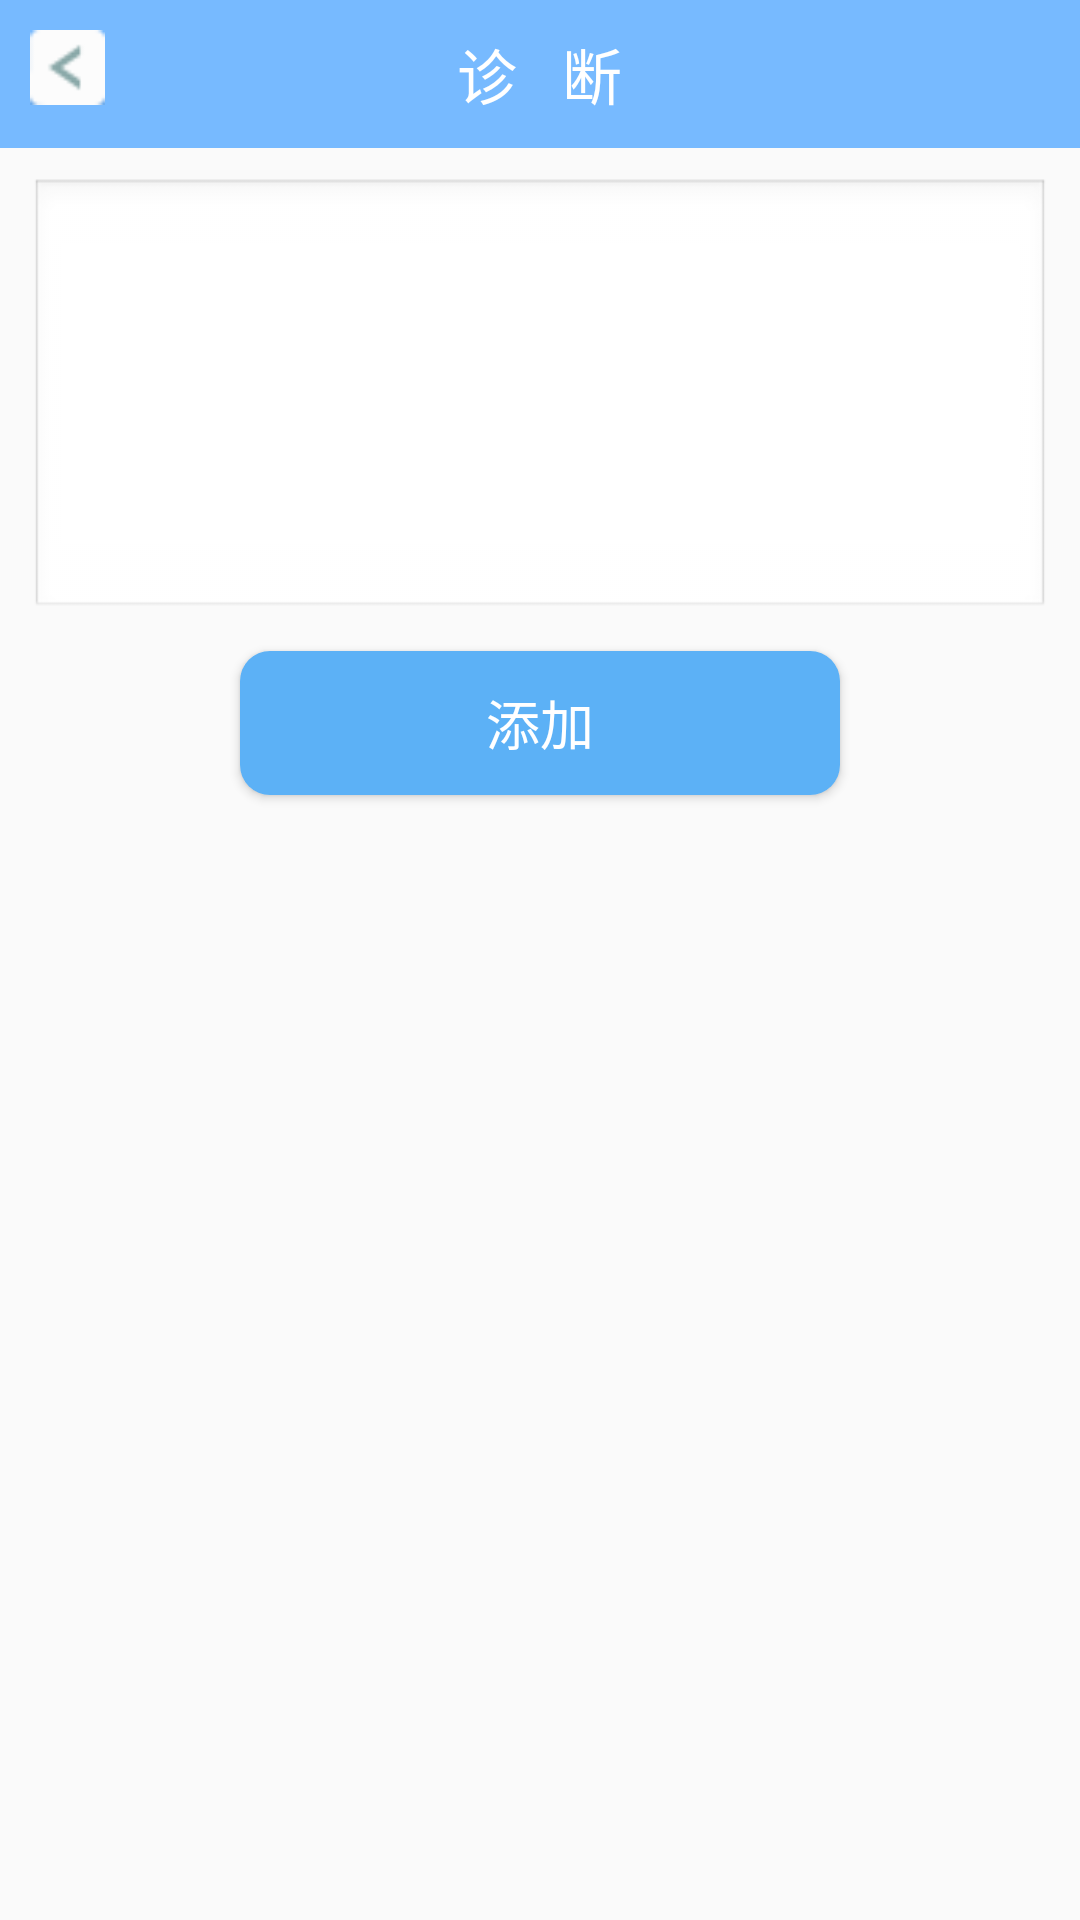

Named icons in this screenshot (1080×1920) and their centers, (x,y):
left: (67,67)
